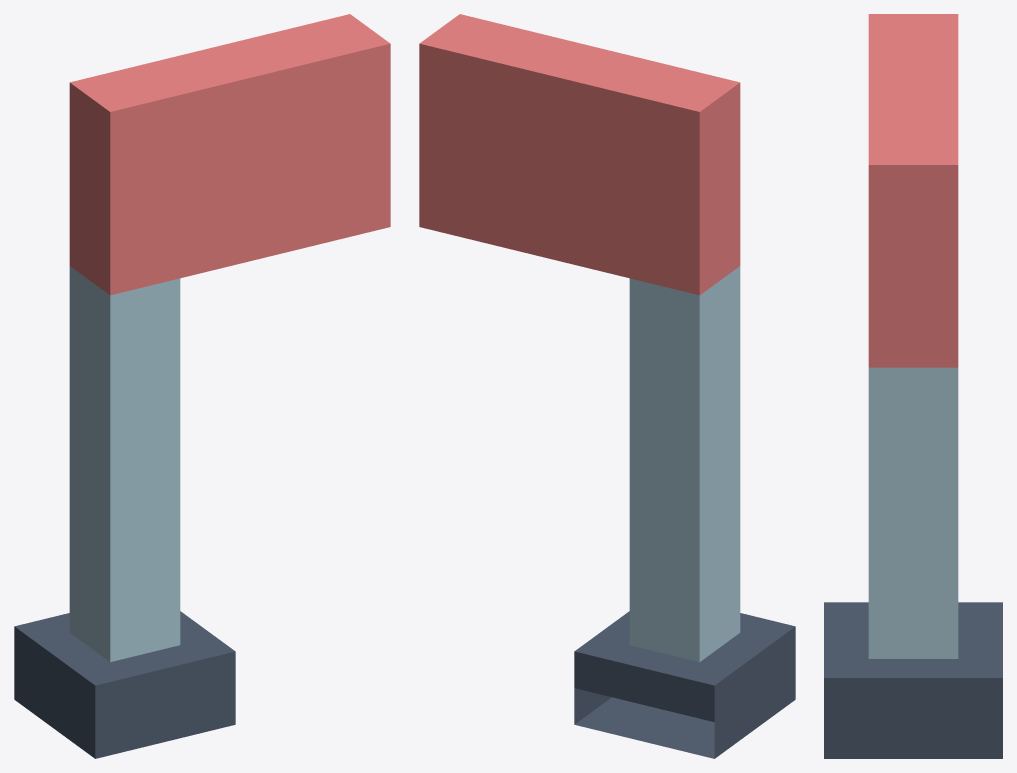
The model's file is red_flag.gltf.
3 renders of one model, left to right at view 1: azimuth 30°, elevation 25°; view 2: azimuth 150°, elevation 25°; view 3: azimuth 270°, elevation 25°, orthographic. The views are drawn at different scales.
Parts seen in each view (by area): view 1: cube (×3); view 2: cube (×3); view 3: cube (×3).
Boxes of the visible parts, x1,y1,x2,y2 form: cube (×3): (14, 14, 390, 758); cube (×3): (419, 14, 795, 758); cube (×3): (824, 14, 1002, 758).
Bounding box in the file's own units: 0.5625 × 1.06 × 0.25.
1 material, 1 textured.
